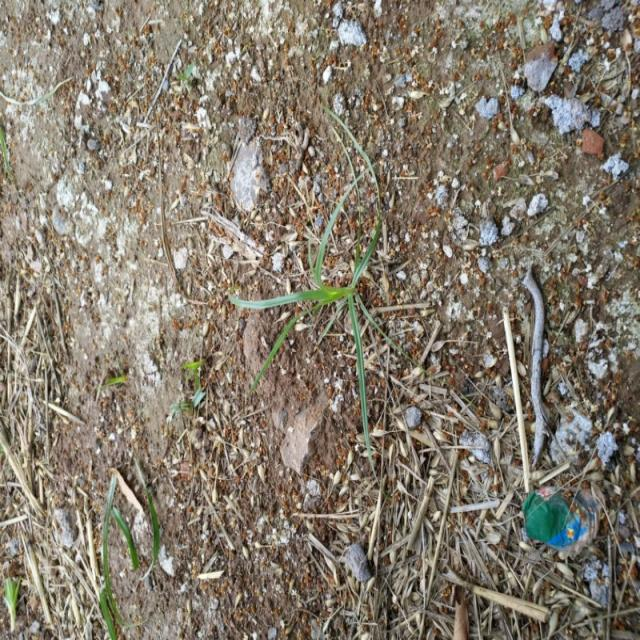sedge: (203, 151, 423, 418)
